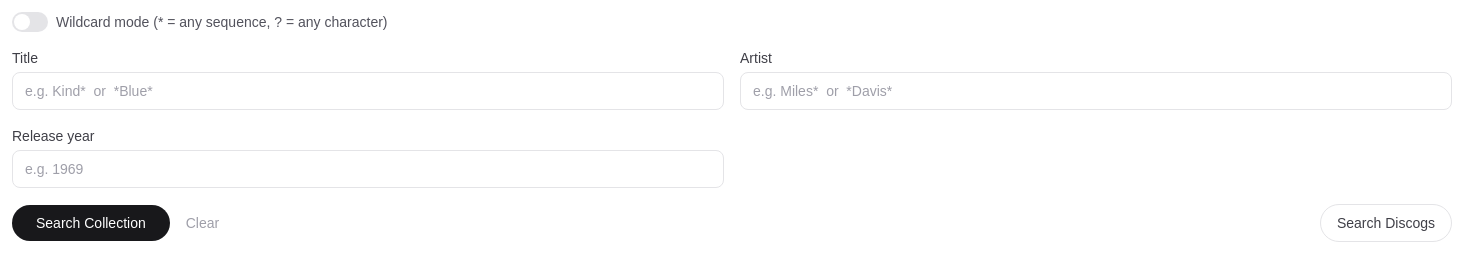
Test: SearchForm › switches to regex-mode placeholders and label when the toggle is checked
Step 1. Click the checkbox → (30, 22), box x1=12 y1=12 x2=48 y2=32
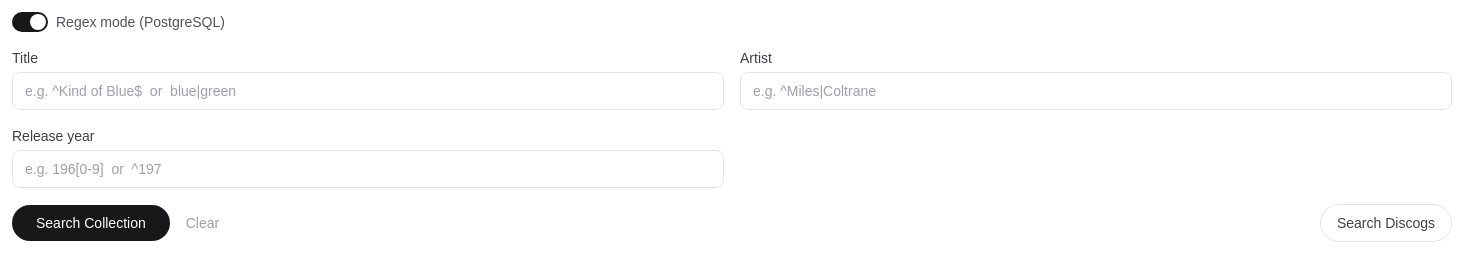
Check: the text "Regex mode (PostgreSQL)" is shown, box x1=56 y1=12 x2=225 y2=32
Check: the field with placeholder "e.g. ^Kind of Blue$ or blue|green" is shown, box x1=12 y1=72 x2=724 y2=110
Check: the field with placeholder "e.g. ^Miles|Coltrane" is shown, box x1=740 y1=72 x2=1452 y2=110
